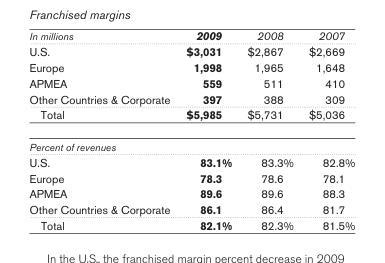table: (28, 28, 354, 231)
table column: (28, 28, 177, 231), (238, 28, 300, 231), (177, 28, 238, 231), (300, 28, 354, 231)
table column header: (28, 28, 354, 43)
table projected row header: (28, 130, 354, 153)
table row: (28, 106, 354, 130), (28, 130, 354, 153), (28, 43, 354, 59), (28, 74, 354, 90), (28, 90, 354, 106), (28, 153, 354, 169), (28, 169, 354, 185), (28, 185, 354, 201), (28, 28, 354, 43), (28, 59, 354, 74), (28, 201, 354, 216), (28, 216, 354, 231)
